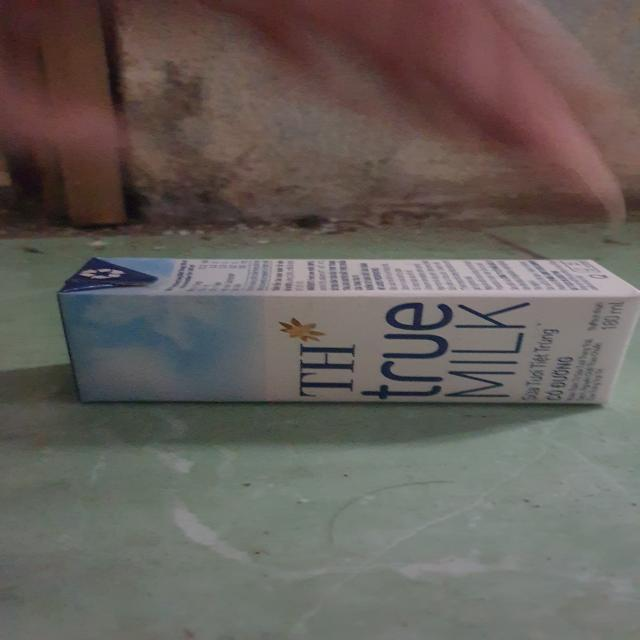TH: (57, 258, 639, 406)
